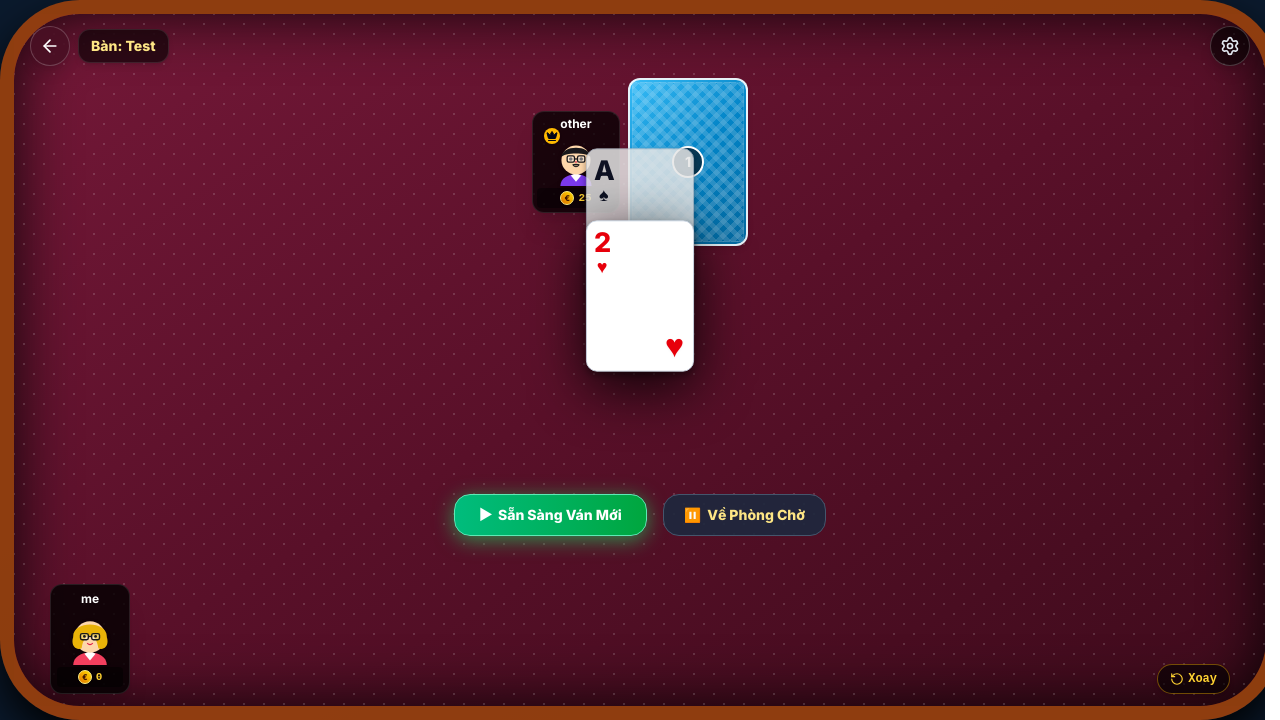
Test: Lá cuối và lịch sử sau khi kết thúc ván › vẫn bay lá cuối của me và giữ cụm bài để xem lịch sử
Later steps or results of the test are not shown.
Expected: the element titled "Bấm để xem toàn bộ lịch sử đánh bài của ván này" shows "2", [594,226,610,258]
Click the element titled "Bấm để xem toàn bộ lịch sử đánh bài của ván này".
click(640, 260)  # box [582,145,698,375]
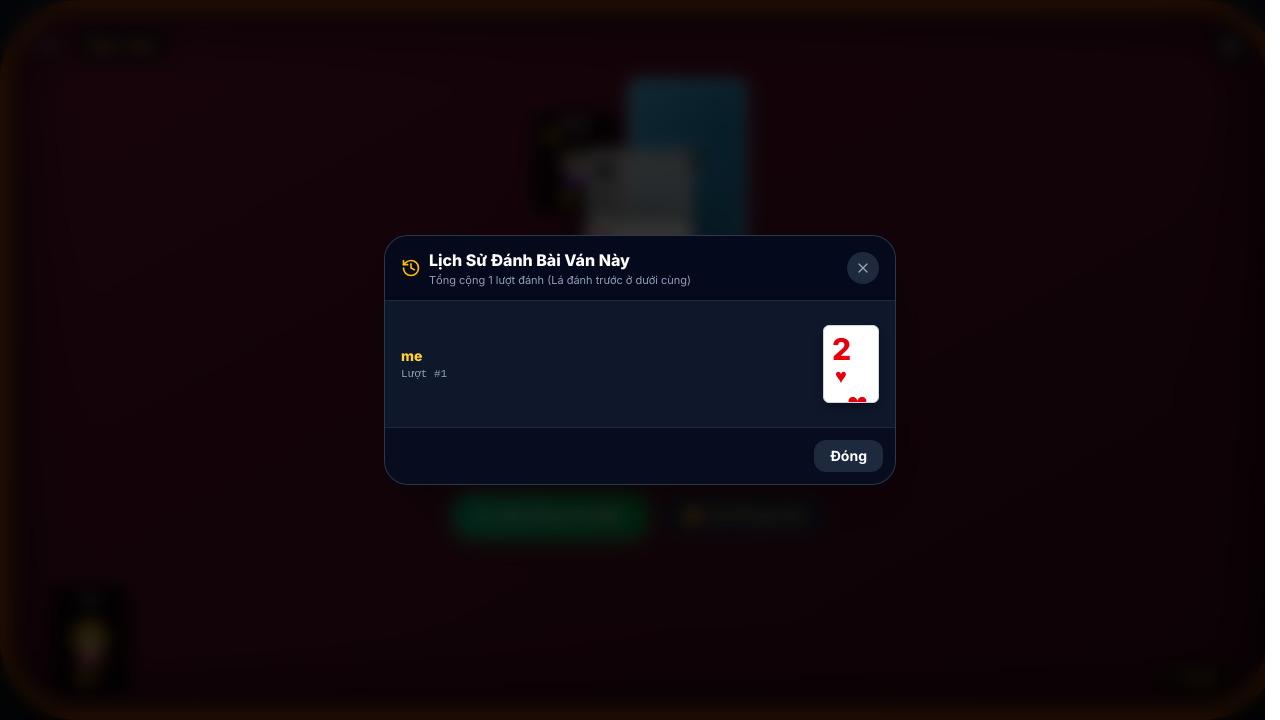
Expected: the heading "Lịch Sử Đánh Bài Ván Này" is shown, [429,250,630,270]
Expected: the text "Tổng cộng 1 lượt đánh (Lá đánh trước ở dưới cùng)" is shown, [429,272,691,288]
